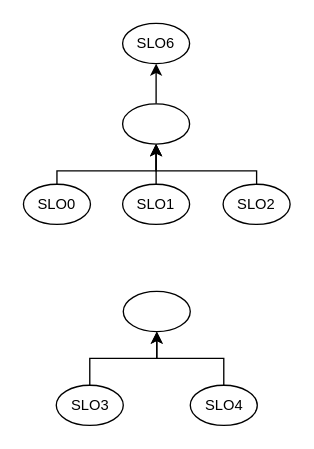
The diagram is 314 pixels wide and 449 high, and some of its shapes have lost their labels. The shapes that lost their labels are listed below. From the top down, each one's box as (x1, y1, x2, y2) in pixels, then its label:
(121, 103, 190, 144): SLO5
(122, 290, 190, 332): SLO7
